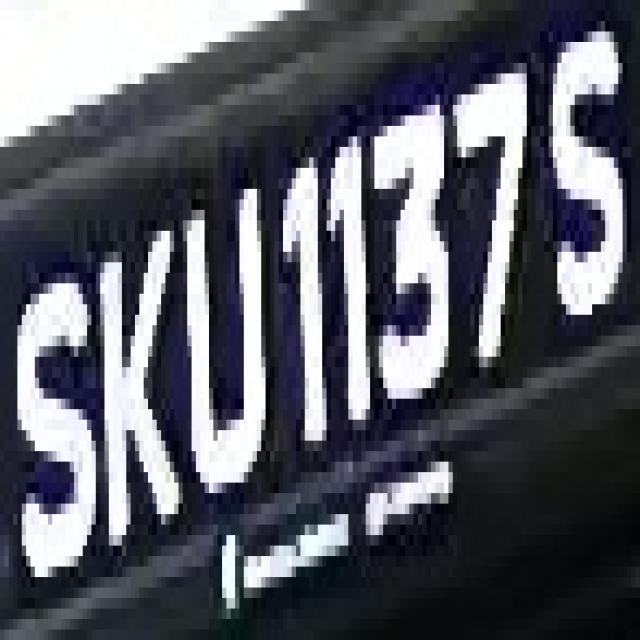1: (283, 95, 331, 472), (327, 84, 370, 472)
3: (357, 94, 448, 440)
7: (448, 42, 544, 409)
K: (100, 199, 183, 577)
S: (544, 0, 640, 325), (13, 262, 100, 608)
U: (174, 178, 274, 514)
